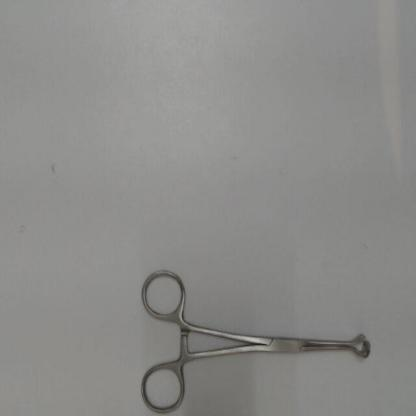Babcock Tissue Forceps: (138, 262, 376, 413)
